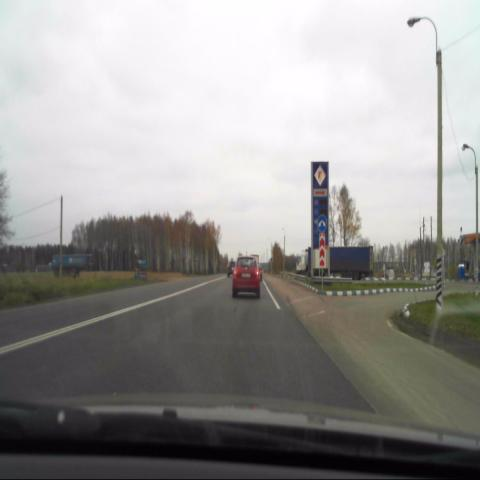4_2_3: (316, 214, 328, 234)
